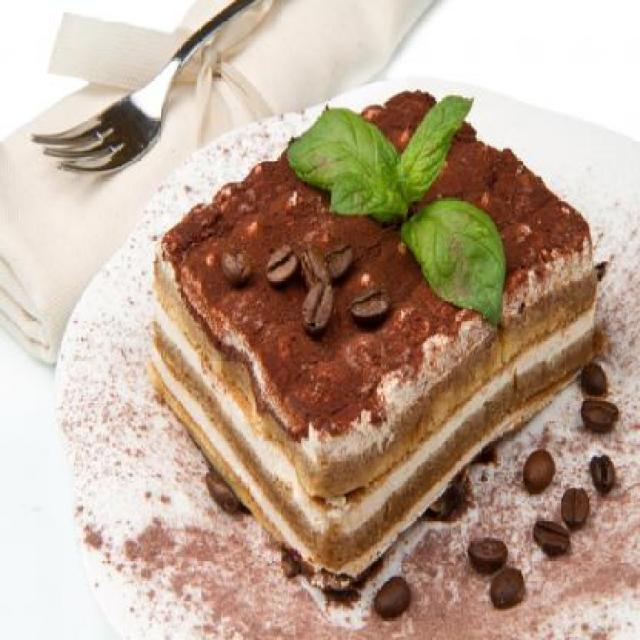Tiramisu: (147, 81, 616, 570)
